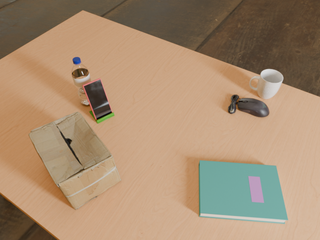book: (199, 160, 288, 224)
bottle: (71, 57, 91, 105)
box: (29, 112, 121, 210)
cup: (249, 69, 283, 99)
mouse: (228, 95, 269, 117)
phone: (82, 78, 112, 120)
